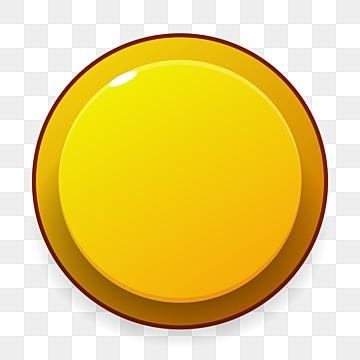yellow_circle: (15, 20, 343, 345)
